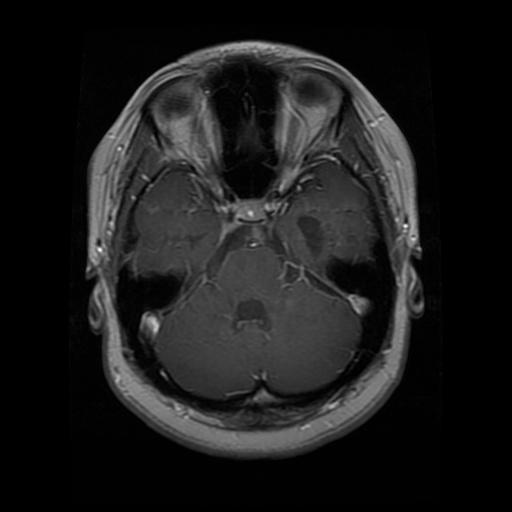glioma: (291, 201, 339, 261)
